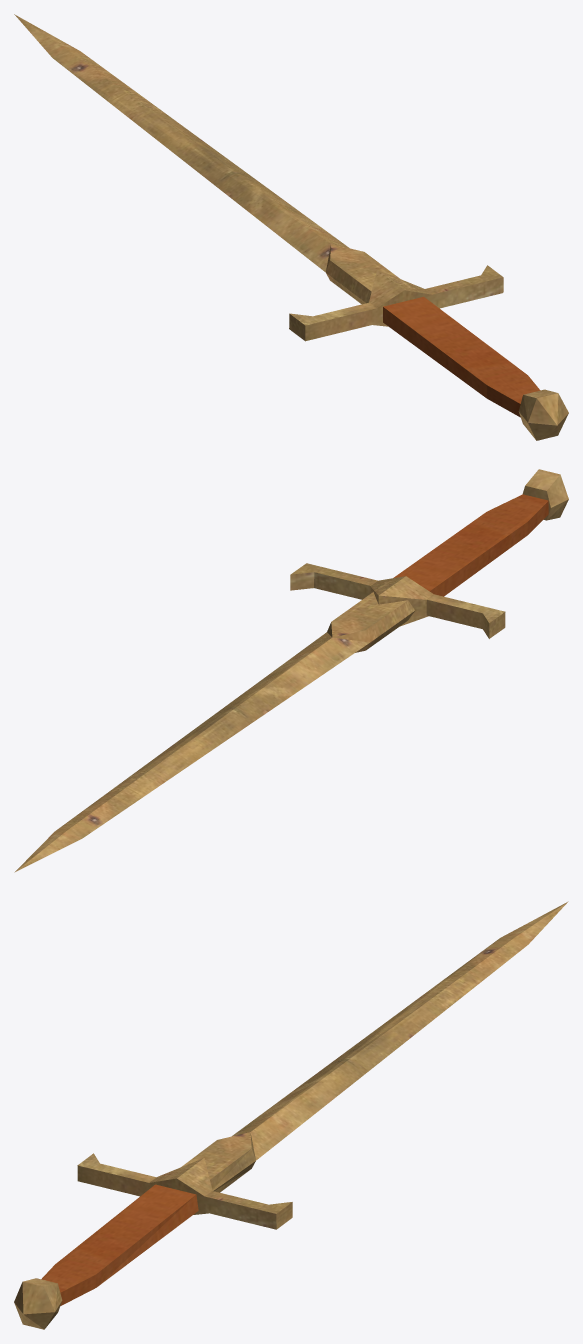
Rendered from throwingdagger.gltf.
3 renders of one model, top to bottom at view 1: azimuth 30°, elevation 25°; view 2: azimuth 150°, elevation 25°; view 3: azimuth 330°, elevation 25°, orthographic.
Visible parts, largest first — view 1: Dagger; view 2: Dagger; view 3: Dagger.
Boxes of the visible parts, left/top/right/bottom form: Dagger: left=14, top=14, right=568, bottom=440; Dagger: left=14, top=469, right=568, bottom=872; Dagger: left=14, top=901, right=568, bottom=1329.
Bounding box in the file's own units: 0.0858 × 0.0183 × 0.4074.
3 materials, 3 textured.
